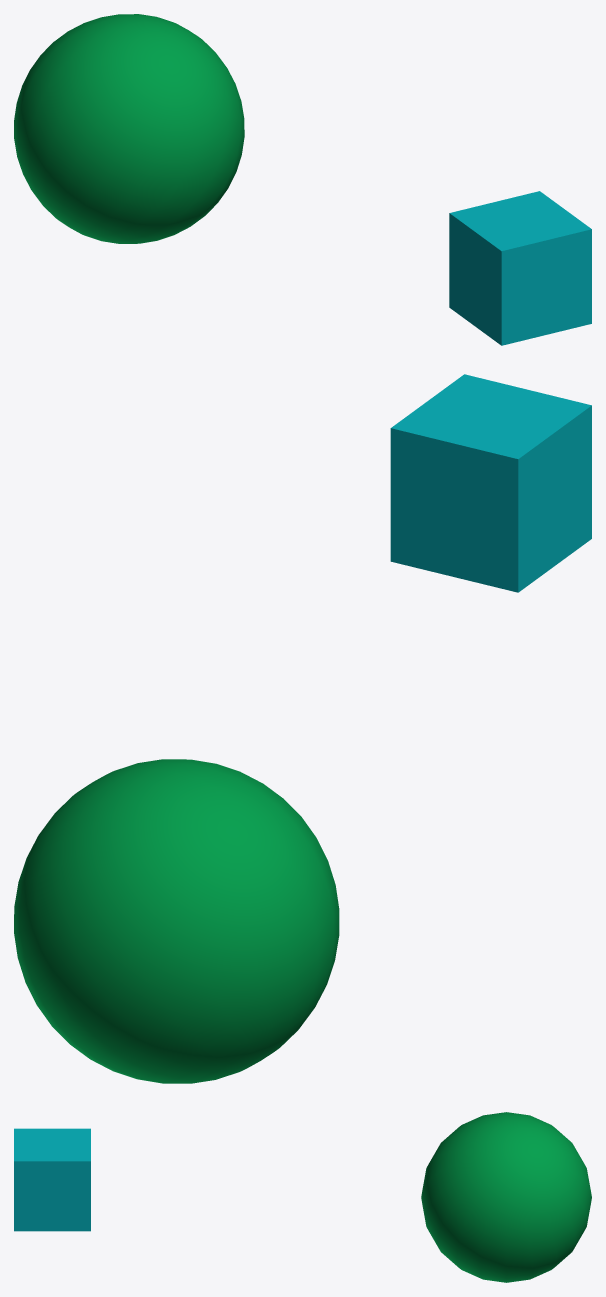
Rendered from demoScene.fbx.
3 views of the same model, one above another, from view 1: azimuth 30°, elevation 25°; view 2: azimuth 150°, elevation 25°; view 3: azimuth 270°, elevation 25° (orthographic). The views are drawn at different scales.
Parts seen in each view (by area): view 1: testSphere1, testCube1; view 2: testSphere1, testCube1; view 3: testSphere1, testCube1.
Part boxes in pixels (box(x1,y1,x2,y2)): testSphere1: box(14, 14, 244, 243); testCube1: box(449, 191, 591, 345); testSphere1: box(14, 759, 339, 1083); testCube1: box(390, 374, 591, 592); testSphere1: box(421, 1112, 591, 1282); testCube1: box(14, 1128, 90, 1231).
Bounding box in the file's own units: 6.7 × 6.05 × 19.77.
